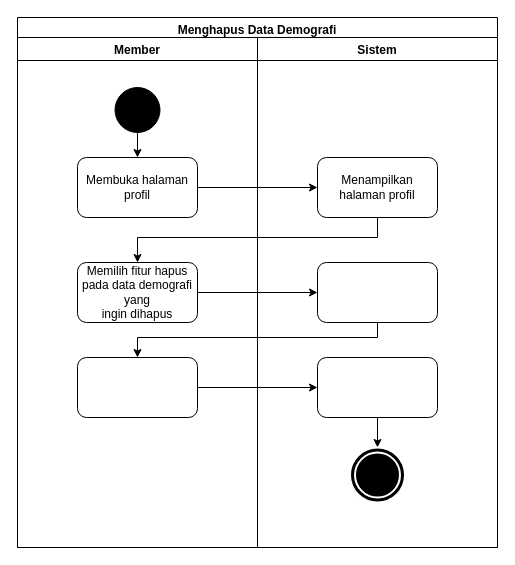
Some shapes in this 515 by 565 pixel diagram are drawn without their labels. Here are the shapes that lost their labels. From the top down, the centre of each, then its label:
At point 377,292: "Memunculkan dialog konfirmasi penghapusan data demografi".
At point 137,387: "Melakukan konfirmasi".
At point 377,387: "Menghapus data".
